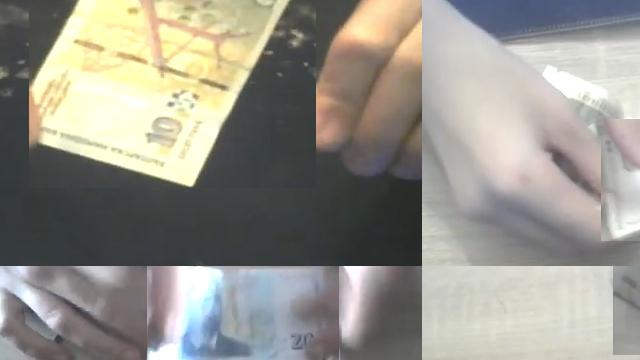10leva: (29, 0, 292, 188), (601, 139, 640, 241)
20leva: (147, 266, 339, 360)
